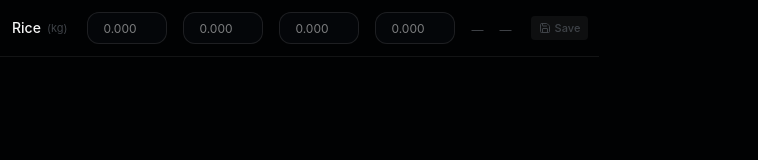
it: InventoryTableRow › shows error when save fails
Note: Type values to make the row dirty then save
Type "10" into the number field named "Opening stock for Rice".
click(128, 28); type("10")  # box [88,12,168,44]
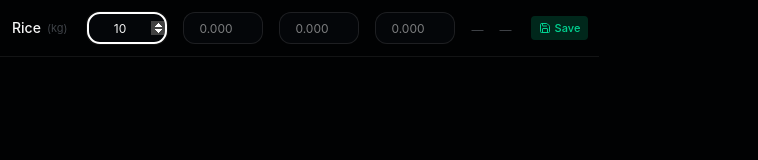
Type "8" into the number field named "Closing stock for Rice".
click(416, 28); type("8")  # box [376,12,456,44]
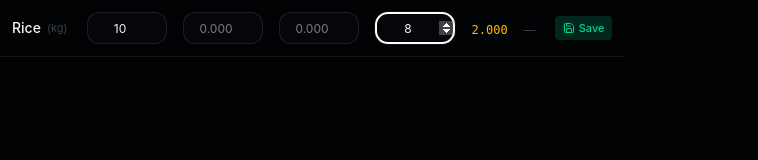
Click the button with aria-label "Save Rice stock".
click(584, 28)  # box [555,16,612,40]
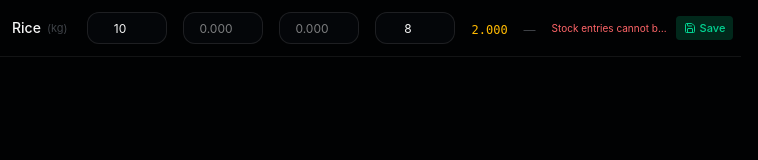
Expected: the text titled "backdated" is shown, [552,20,672,36]
